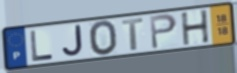H: (179, 8, 211, 47)
J: (61, 24, 85, 59)
L: (28, 30, 55, 63)
O: (87, 19, 119, 58)
P: (148, 13, 179, 51)
T: (121, 17, 145, 53)
